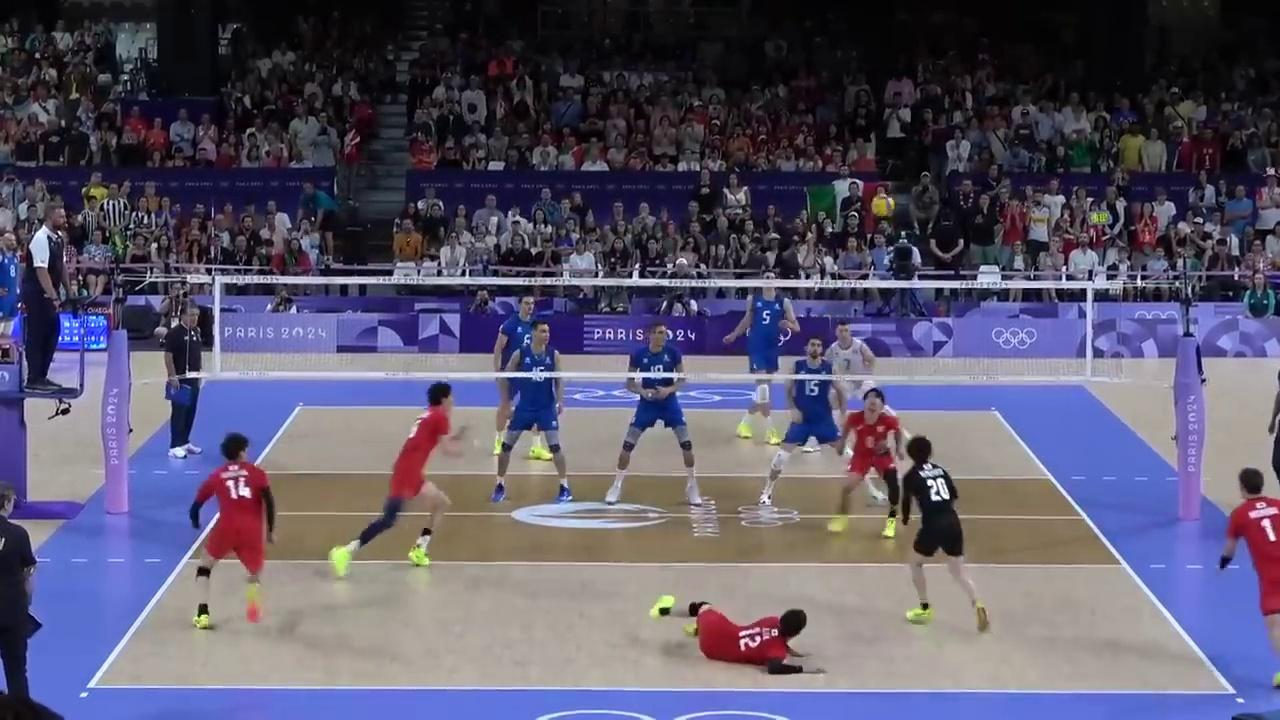ball: (872, 194, 895, 217)
